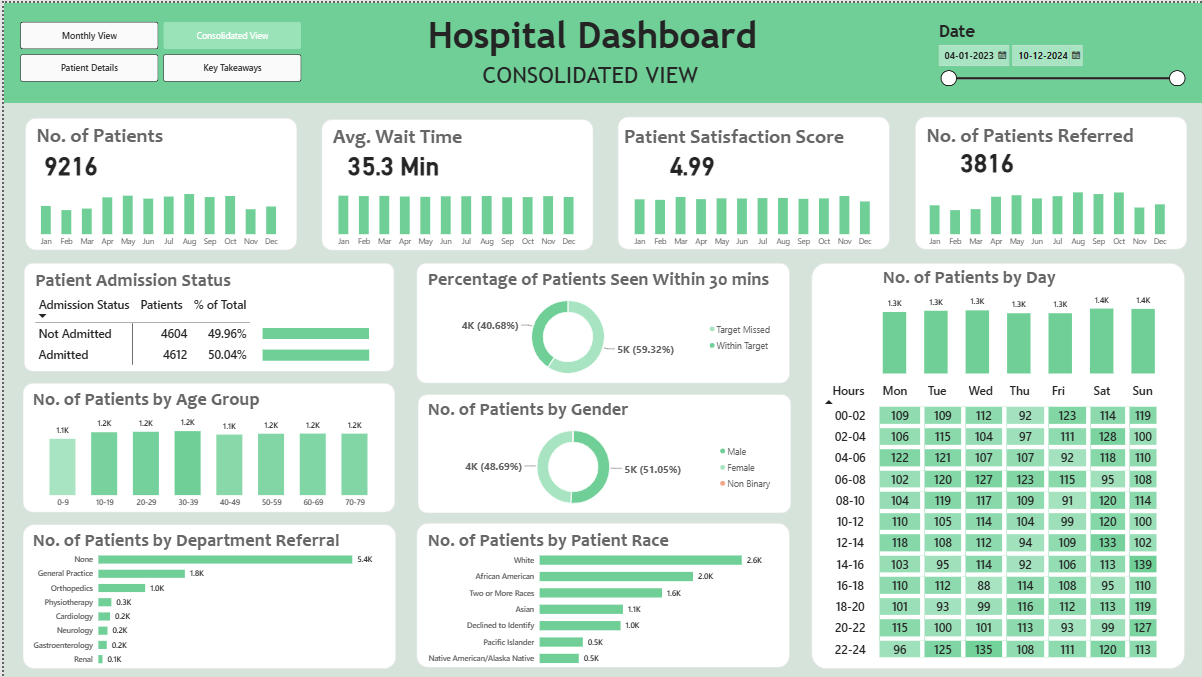

Layout of this report page (visuals, bound fields, positions):
{"tool":"powerbi","page":{"name":"Consolidated View","canvas":[1920,1080],"ordinal":1},"visuals":[{"type":"shape","box":[0,0,1920,160],"z":1000},{"type":"slicer","fields":{"Values":["Date Table.Date"]},"box":[1487.5,30,405,395],"z":1500},{"type":"textbox","box":[677.9,16.4,810,75],"z":2000},{"type":"textbox","box":[677.5,92.5,520,65],"z":3000},{"type":"shape","box":[33.3,183.3,435,211.7],"z":4000},{"type":"card","fields":{"Values":["Hospital ER_Data.No of Patients"]},"box":[32.5,215,150,82.5],"z":5000},{"type":"textbox","box":[52.5,192.5,350,60],"z":6000},{"type":"columnChart","fields":{"Category":["Date Table.Month Name"],"Y":["Hospital ER_Data.No of Patients"]},"box":[30,277.8,435,132.5],"z":7000},{"type":"shape","box":[508.3,185,435,210],"z":8000},{"type":"shape","box":[1457.5,182.5,435,212.5],"z":9000},{"type":"shape","box":[982.5,182.5,435,212.5],"z":10000},{"type":"card","fields":{"Values":["Hospital ER_Data.Avg Wait Time"]},"box":[507.5,215,230,82.5],"z":11000},{"type":"textbox","box":[526.7,193.3,306.7,60],"z":12000},{"type":"columnChart","fields":{"Category":["Date Table.Month Name"],"Y":["Avg(Hospital ER_Data.Patient Waittime)"]},"box":[505,277.8,435,132.5],"z":13000},{"type":"card","fields":{"Values":["Hospital ER_Data.Avg Satisfaction Score"]},"box":[985,215,230,82.5],"z":14000},{"type":"textbox","box":[992.5,193.8,426.2,55],"z":15000},{"type":"columnChart","fields":{"Category":["Date Table.Month Name"],"Y":["Hospital ER_Data.Avg Satisfaction Score"]},"box":[980,277.8,435,132.5],"z":16000},{"type":"card","fields":{"Values":["Hospital ER_Data.No of Patients Referred"]},"box":[1457.5,212.5,230,82.5],"z":17000},{"type":"textbox","box":[1475,192.5,415,57.5],"z":18000},{"type":"columnChart","fields":{"Category":["Date Table.Month Name"],"Y":["Hospital ER_Data.No of Patients Referred"]},"box":[1452.5,277.8,435,132.5],"z":19000},{"type":"shape","box":[32,416.2,592.5,173.8],"z":20000},{"type":"pivotTable","title":"Patient Admission Status","fields":{"Rows":["Hospital ER_Data.Admission Status"],"Values":["Hospital ER_Data.No of Patients1","Hospital ER_Data.No of Patients"]},"box":[34,410,436,202],"z":21000},{"type":"barChart","fields":{"Category":["Hospital ER_Data.Admission Status"],"Y":["Hospital ER_Data.No of Patients"]},"box":[398.3,491.7,253.3,105],"z":22000},{"type":"shape","box":[30,607.1,595.7,207.1],"z":23000},{"type":"clusteredColumnChart","title":" No. of Patients by Age Group","fields":{"Category":["Hospital ER_Data.Age Group"],"Y":["Hospital ER_Data.No of Patients"]},"box":[30,607.5,595,210],"z":24000},{"type":"shape","box":[30,833.2,597.1,231.4],"z":25000},{"type":"clusteredBarChart","title":"No. of Patients by Department Referral","fields":{"Category":["Hospital ER_Data.Department Referral"],"Y":["Hospital ER_Data.No of Patients"]},"box":[30,835.6,588.3,225],"z":26000},{"type":"shape","box":[660.3,832.7,597.1,231.4],"z":27000},{"type":"shape","box":[1292,415.5,597.3,649.2],"z":28000},{"type":"shape","box":[660.1,415.5,597.3,192.6],"z":29000},{"type":"shape","box":[662.2,625.4,597.3,190.4],"z":30000},{"type":"donutChart","title":"Percentage of Patients Seen Within 30 mins","fields":{"Category":["Hospital ER_Data.Waittime Status"],"Y":["Hospital ER_Data.No of Patients"]},"box":[662.2,415.5,588.6,192.6],"z":31000},{"type":"donutChart","title":"No. of Patients by Gender","fields":{"Category":["Hospital ER_Data.Patient Gender"],"Y":["Hospital ER_Data.No of Patients"]},"box":[662.2,623.3,588.6,192.6],"z":32000},{"type":"clusteredBarChart","title":"No. of Patients by Patient Race","fields":{"Category":["Hospital ER_Data.Patient Race"],"Y":["Hospital ER_Data.No of Patients"]},"box":[662.2,836.4,588.3,225],"z":33000},{"type":"pivotTable","fields":{"Columns":["Date Table.Day Name"],"Rows":["Hospital ER_Data.Waittime Interval"],"Values":["Hospital ER_Data.No of Patients"]},"box":[1292,601.6,599.5,478.3],"z":34000},{"type":"columnChart","title":"No. of Patients by Day","fields":{"Category":["Date Table.Day Name"],"Y":["Hospital ER_Data.No of Patients"]},"box":[1389.4,415.5,469.6,181.8],"z":35000},{"type":"pageNavigator","box":[26,30,450,96],"z":35001}]}

Visuals, with their boxes in screenshot pixels (x1, y1, x2, y2), scaled from the page's 1920x1080 canvas onto the 1202x677 screenshot:
shape: select_region(0, 0, 1201, 100)
slicer - Date Table.Date: select_region(931, 19, 1185, 266)
textbox: select_region(424, 10, 931, 57)
textbox: select_region(424, 58, 750, 99)
shape: select_region(21, 115, 293, 248)
card - Hospital ER_Data.No of Patients: select_region(20, 135, 114, 186)
textbox: select_region(33, 121, 252, 158)
columnChart - Date Table.Month Name x Hospital ER_Data.No of Patients: select_region(19, 174, 291, 257)
shape: select_region(318, 116, 591, 248)
shape: select_region(912, 114, 1185, 248)
shape: select_region(615, 114, 887, 248)
card - Hospital ER_Data.Avg Wait Time: select_region(318, 135, 462, 186)
textbox: select_region(330, 121, 522, 159)
columnChart - Date Table.Month Name x Avg(Hospital ER_Data.Patient Waittime): select_region(316, 174, 588, 257)
card - Hospital ER_Data.Avg Satisfaction Score: select_region(617, 135, 761, 186)
textbox: select_region(621, 121, 888, 156)
columnChart - Date Table.Month Name x Hospital ER_Data.Avg Satisfaction Score: select_region(614, 174, 886, 257)
card - Hospital ER_Data.No of Patients Referred: select_region(912, 133, 1056, 185)
textbox: select_region(923, 121, 1183, 157)
columnChart - Date Table.Month Name x Hospital ER_Data.No of Patients Referred: select_region(909, 174, 1182, 257)
shape: select_region(20, 261, 391, 370)
"Patient Admission Status" pivotTable: select_region(21, 257, 294, 384)
barChart - Hospital ER_Data.Admission Status x Hospital ER_Data.No of Patients: select_region(249, 308, 408, 374)
shape: select_region(19, 381, 392, 510)
" No. of Patients by Age Group" clusteredColumnChart: select_region(19, 381, 391, 512)
shape: select_region(19, 522, 393, 667)
"No. of Patients by Department Referral" clusteredBarChart: select_region(19, 524, 387, 665)
shape: select_region(413, 522, 787, 667)
shape: select_region(809, 260, 1183, 667)
shape: select_region(413, 260, 787, 381)
shape: select_region(415, 392, 788, 511)
"Percentage of Patients Seen Within 30 mins" donutChart: select_region(415, 260, 783, 381)
"No. of Patients by Gender" donutChart: select_region(415, 391, 783, 511)
"No. of Patients by Patient Race" clusteredBarChart: select_region(415, 524, 783, 665)
pivotTable - Date Table.Day Name x Hospital ER_Data.Waittime Interval: select_region(809, 377, 1184, 676)
"No. of Patients by Day" columnChart: select_region(870, 260, 1164, 374)
pageNavigator: select_region(16, 19, 298, 79)
